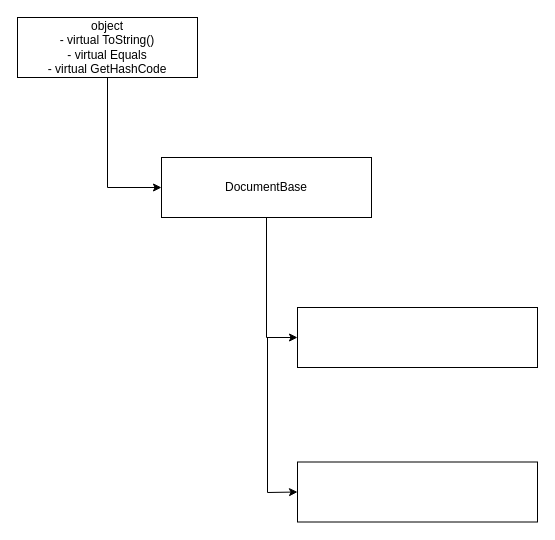
Some shapes in this 555 by 540 pixel diagram are drawn without their labels. Each missing label, with the box of its shape:
PDFDocument: (296, 306, 538, 368)
WordDocument: (296, 461, 538, 522)
